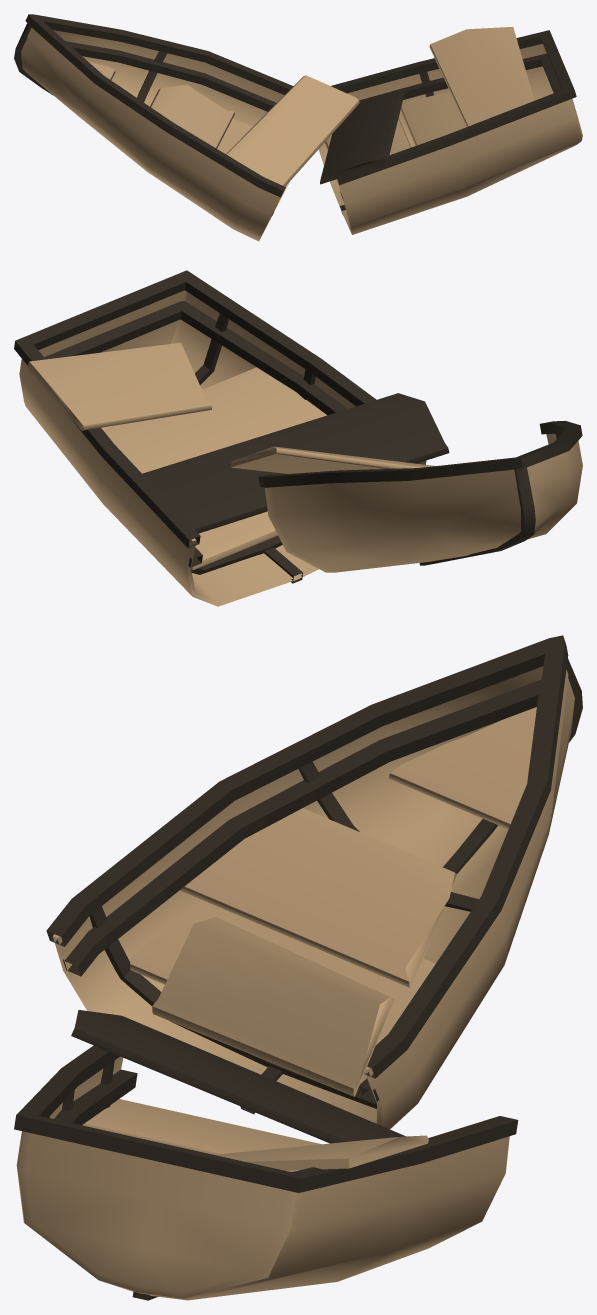
The model's file is crashed_boat.fbx.
3 views of the same model, one above another, from view 1: azimuth 30°, elevation 25°; view 2: azimuth 150°, elevation 25°; view 3: azimuth 270°, elevation 25° (orthographic). The views are drawn at different scales.
Visible parts, largest first — view 1: Plane001; view 2: Plane001; view 3: Plane001.
Boxes of the visible parts, <box> form: Plane001: <box>14,14,582,241</box>; Plane001: <box>14,270,582,606</box>; Plane001: <box>14,635,582,1300</box>.
Size of the model in its own units: 627 by 264 by 359.
